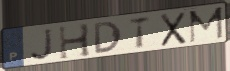D: (92, 20, 124, 55)
H: (57, 22, 93, 62)
J: (29, 27, 55, 62)
M: (188, 5, 225, 44)
T: (128, 15, 152, 50)
X: (159, 10, 187, 48)
